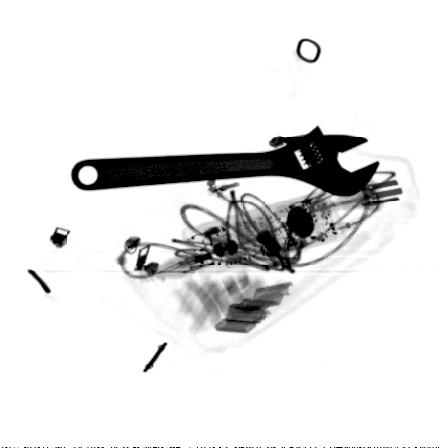Wrench: (69, 124, 382, 199)
